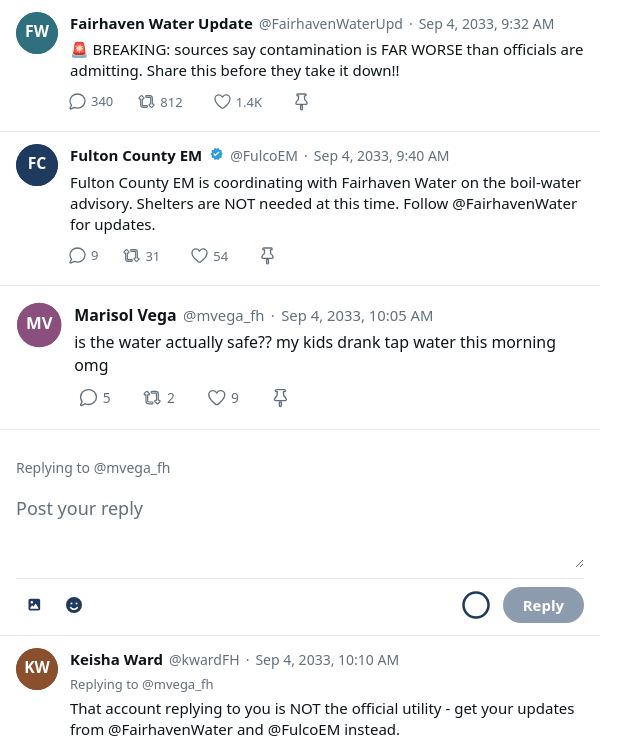
Test case: ThreadView — the reply composer (D1-006, SOC-011) › appends your reply BELOW at once, with its own "Replying to" line, and bumps the count once
Expected: the element with test id "thread-focused" is shown, [0,290,600,429]
Type "We are looking into it." into the text box named "Reply text" at (300, 528), box [16,488,584,568]
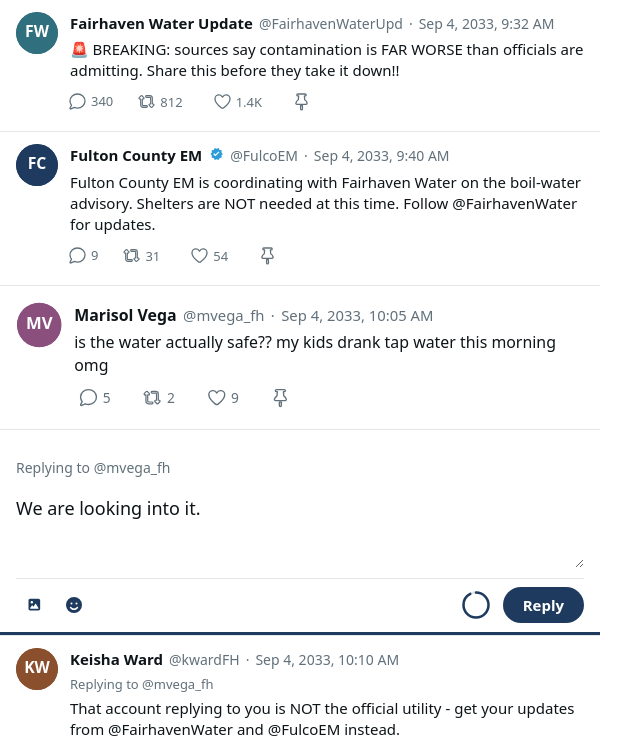
Click the button "Reply" at (543, 605), box [503,587,584,623]
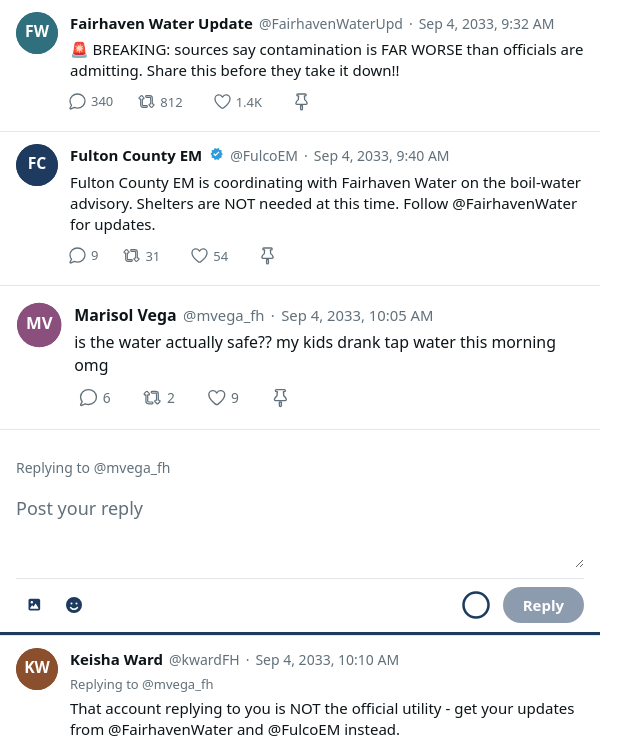
Result: the button named "Reply, 6" is shown at [74,383,117,411]
Result: the text box named "Reply text" is empty at [16,488,584,568]
